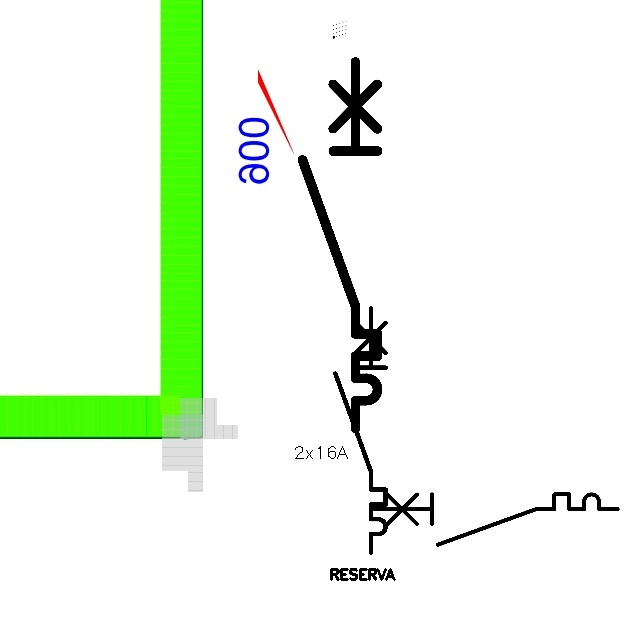interruptor_termomagnetico: (293, 52, 387, 437), (366, 488, 624, 551), (329, 302, 392, 559)
